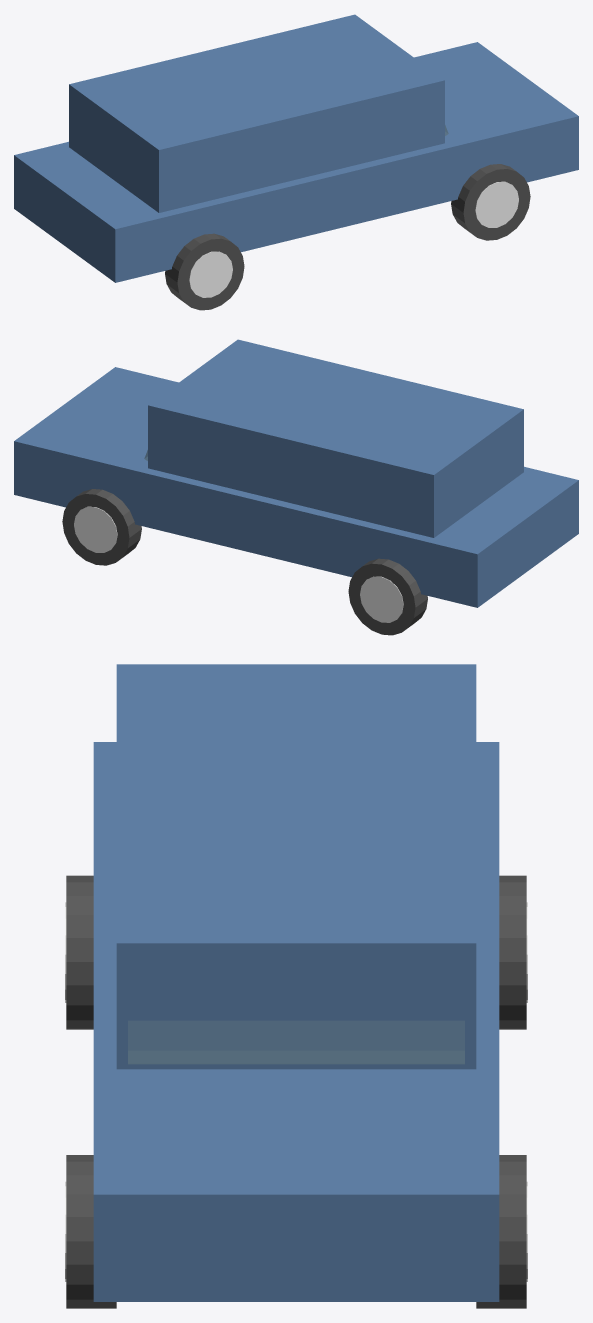
Rendered from gus_volvo_wagon.glb.
3 renders of one model, top to bottom at view 1: azimuth 30°, elevation 25°; view 2: azimuth 150°, elevation 25°; view 3: azimuth 270°, elevation 25°, orthographic. The views are drawn at different scales.
Visible parts, largest first — view 1: Gus_Volvo_cabin, Gus_Volvo_body, Gus_Volvo_wr_r_tire, Gus_Volvo_wf_r_tire, Gus_Volvo_wr_r_rim, Gus_Volvo_wf_r_rim; view 2: Gus_Volvo_cabin, Gus_Volvo_body, Gus_Volvo_wr_l_tire, Gus_Volvo_wf_l_tire, Gus_Volvo_wr_l_rim, Gus_Volvo_wf_l_rim; view 3: Gus_Volvo_cabin, Gus_Volvo_body, Gus_Volvo_ws, Gus_Volvo_wf_l_tire, Gus_Volvo_wf_r_tire, Gus_Volvo_wr_l_tire, Gus_Volvo_wr_r_tire.
Boxes of the visible parts, left/top/right/bottom form: Gus_Volvo_cabin: left=69, top=14, right=444, bottom=212; Gus_Volvo_body: left=14, top=42, right=578, bottom=282; Gus_Volvo_wr_r_tire: left=165, top=233, right=244, bottom=310; Gus_Volvo_wf_r_tire: left=451, top=164, right=530, bottom=240; Gus_Volvo_wr_r_rim: left=189, top=251, right=232, bottom=297; Gus_Volvo_wf_r_rim: left=475, top=181, right=518, bottom=227; Gus_Volvo_cabin: left=148, top=339, right=523, bottom=537; Gus_Volvo_body: left=14, top=367, right=578, bottom=607; Gus_Volvo_wr_l_tire: left=348, top=558, right=427, bottom=635; Gus_Volvo_wf_l_tire: left=62, top=489, right=141, bottom=565; Gus_Volvo_wr_l_rim: left=360, top=576, right=403, bottom=622; Gus_Volvo_wf_l_rim: left=74, top=506, right=117, bottom=552; Gus_Volvo_cabin: left=116, top=664, right=476, bottom=1069; Gus_Volvo_body: left=93, top=742, right=499, bottom=1301; Gus_Volvo_ws: left=128, top=1021, right=464, bottom=1064; Gus_Volvo_wf_l_tire: left=476, top=1155, right=526, bottom=1308; Gus_Volvo_wf_r_tire: left=66, top=1155, right=116, bottom=1308; Gus_Volvo_wr_l_tire: left=499, top=875, right=526, bottom=1029; Gus_Volvo_wr_r_tire: left=66, top=875, right=93, bottom=1029.
Size of the model in its own units: 4.7 by 1.55 by 2.03.
